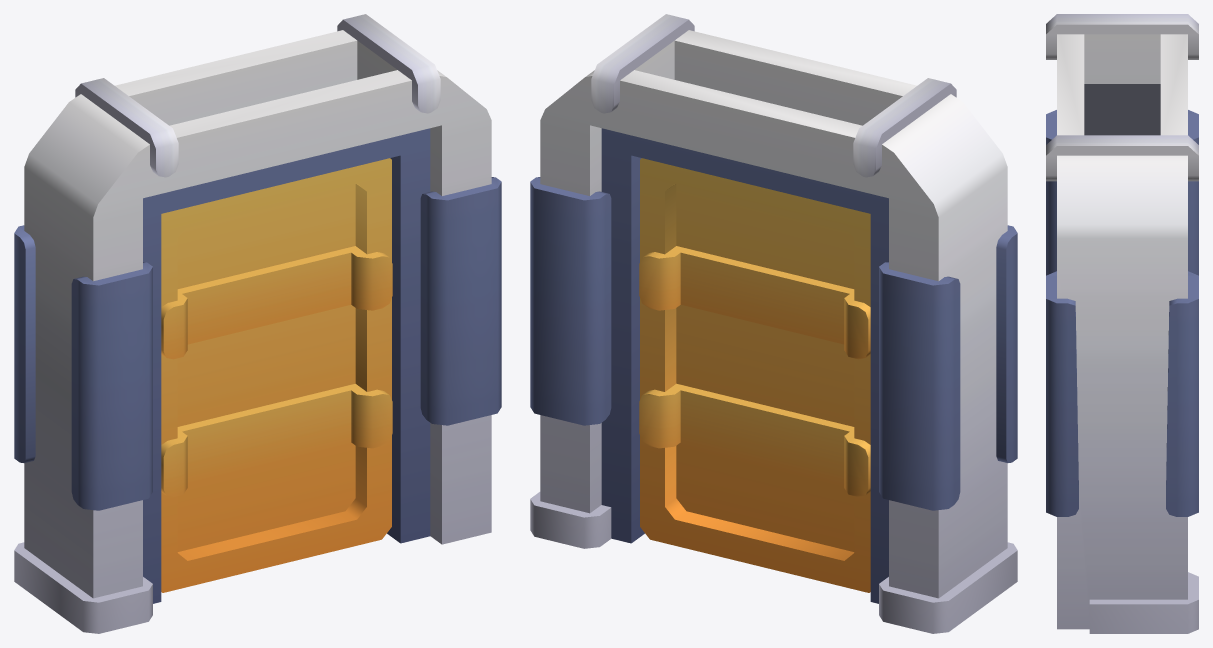
Rendered from gate-door.glb.
3 views of the same model, side by side, from view 1: azimuth 30°, elevation 25°; view 2: azimuth 150°, elevation 25°; view 3: azimuth 270°, elevation 25° (orthographic). The views are drawn at different scales.
Visible parts, largest first — view 1: gate-door, door; view 2: gate-door, door; view 3: gate-door.
Part boxes in pixels (<box>): gate-door: <box>14,14,501,633</box>; door: <box>161,158,392,592</box>; gate-door: <box>530,14,1017,633</box>; door: <box>639,158,870,592</box>; gate-door: <box>1046,14,1198,633</box>.
Size of the model in its own units: 4.2 by 4.62 by 1.4.
1 material, 1 textured.
